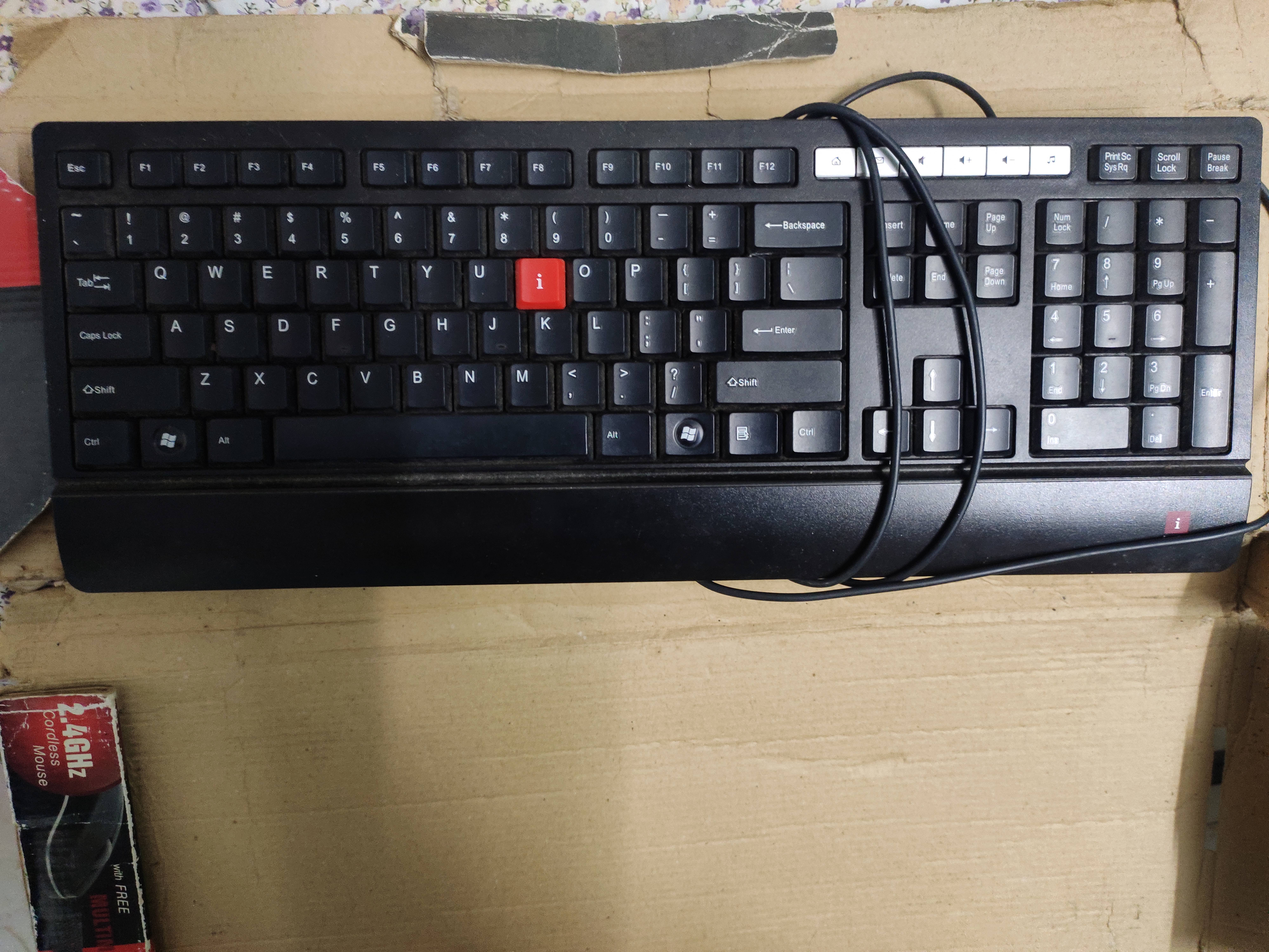Electronics: (1, 90, 1264, 621)
